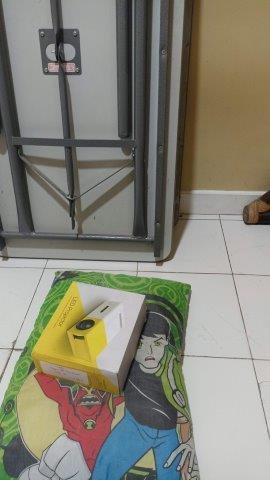kardus: (32, 282, 145, 393)
